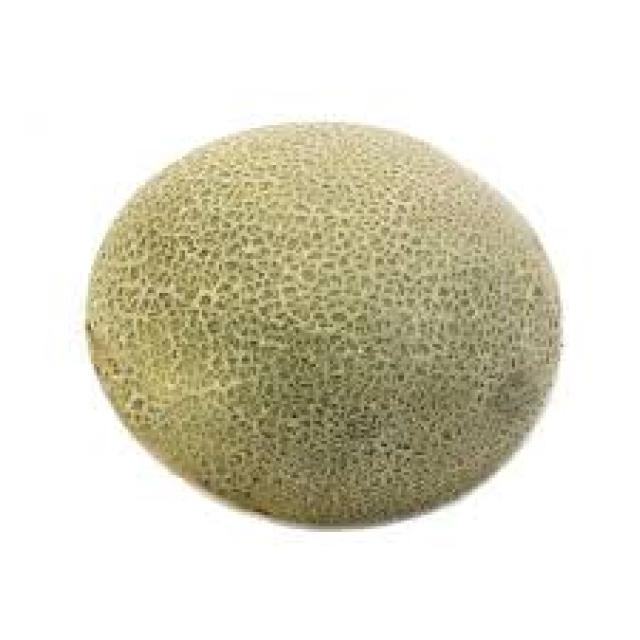cantaloupe: (86, 120, 563, 530)
